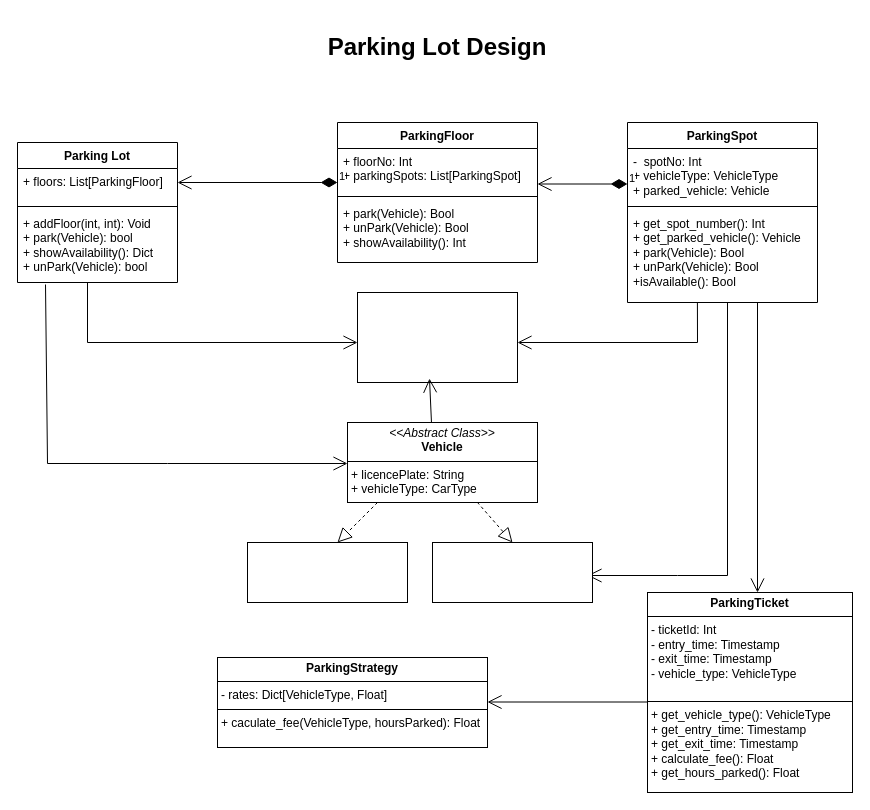
This 870x810 diagram has some shape labels left out. The box of each missing label's shape, as (x1, y1, x2, y2) in pixels:
Bike:BIKE vehicleType: BIKE: (432, 542, 592, 602)
Car:CAR vehicleType: CAR: (246, 542, 408, 602)
VehicleType: Enumeration CAR = car BIKE = bike: (356, 292, 518, 382)
